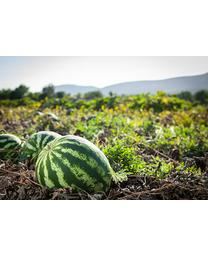watermelon: (31, 133, 118, 194)
